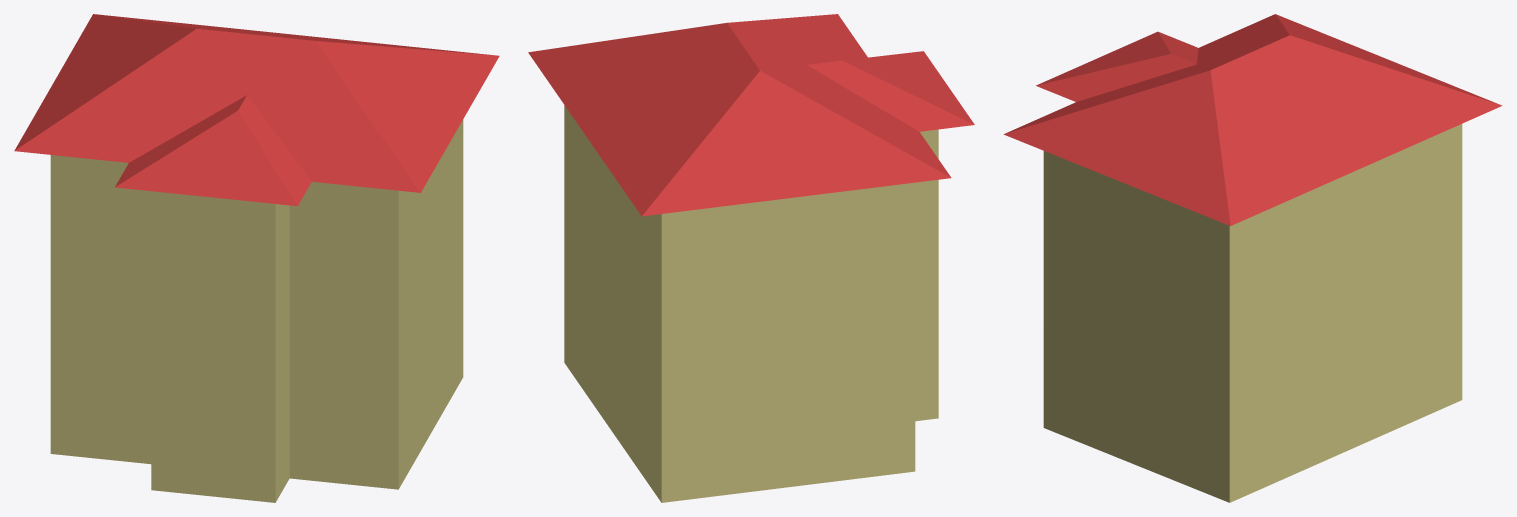
3 views of the same model, side by side, from view 1: azimuth 30°, elevation 25°; view 2: azimuth 150°, elevation 25°; view 3: azimuth 270°, elevation 25° (orthographic). The views are drawn at different scales.
Parts seen in each view (by area): view 1: group_10, group_7, group_5, group_3, group_9, group_4; view 2: group_10, group_7, group_3, group_5, group_9, group_4; view 3: group_10, group_7, group_3, group_9, group_4.
Part boxes in pixels (x1=…): group_10: x1=50, y1=119, x2=463, y2=489; group_7: x1=14, y1=14, x2=499, y2=192; group_5: x1=151, y1=191, x2=299, y2=502; group_3: x1=115, y1=95, x2=311, y2=206; group_9: x1=16, y1=14, x2=497, y2=190; group_4: x1=116, y1=146, x2=311, y2=205; group_10: x1=564, y1=105, x2=915, y2=502; group_7: x1=528, y1=14, x2=951, y2=216; group_3: x1=807, y1=51, x2=974, y2=131; group_5: x1=915, y1=129, x2=938, y2=421; group_9: x1=529, y1=47, x2=950, y2=215; group_4: x1=888, y1=52, x2=972, y2=129; group_10: x1=1043, y1=124, x2=1462, y2=502; group_7: x1=1004, y1=14, x2=1502, y2=225; group_3: x1=1036, y1=31, x2=1198, y2=101; group_9: x1=1004, y1=15, x2=1501, y2=225; group_4: x1=1039, y1=32, x2=1197, y2=101.
Size of the model in its own units: 17.65 by 17.55 by 13.96.
